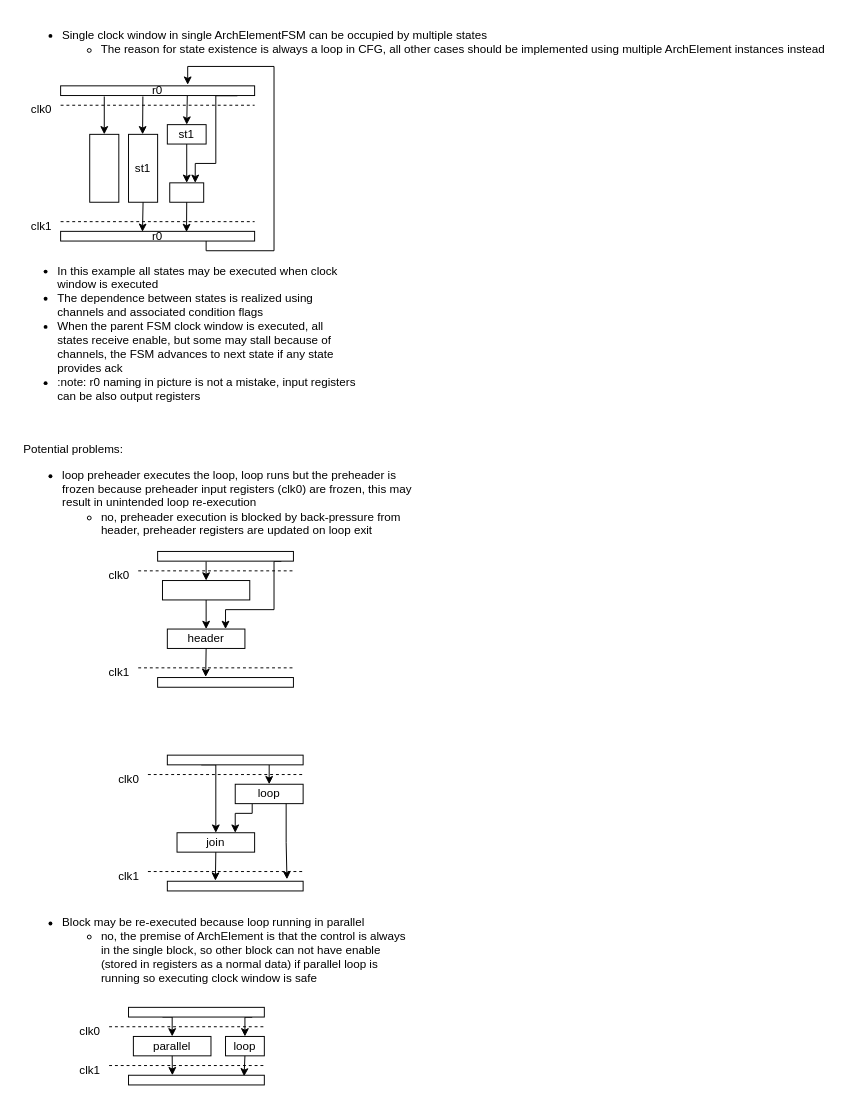
The diagram is 843 pixels wide and 1102 high, and some of its shapes have lost their labels. The shapes that lost their labels are listed below. From the top down, each one's centre as x and y in pixels, then its label:
At [104,167]: "st0".
At [186,192]: "st2".
At [206,590]: "preheader".
